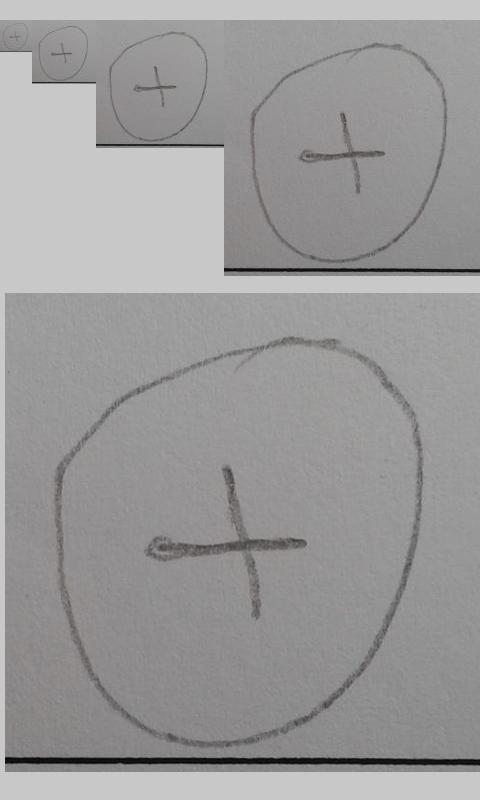button: (51, 334, 426, 748), (250, 42, 449, 264), (108, 31, 209, 142), (38, 25, 89, 81), (2, 22, 29, 50)
